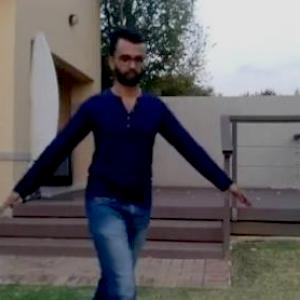land: (1, 36, 226, 299)
